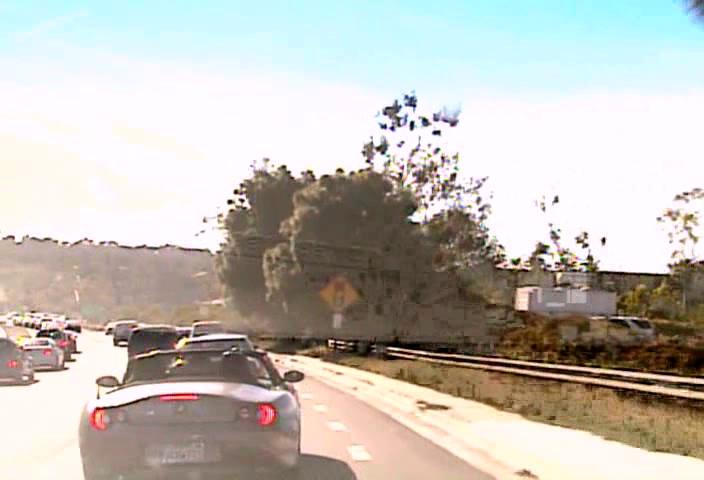signalAhead: (318, 272, 359, 312)
